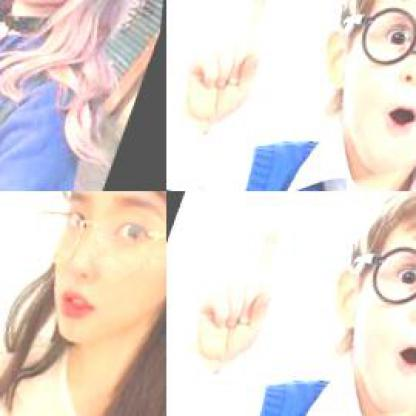Glasses: (11, 191, 165, 307), (336, 223, 414, 342), (325, 0, 415, 103)
